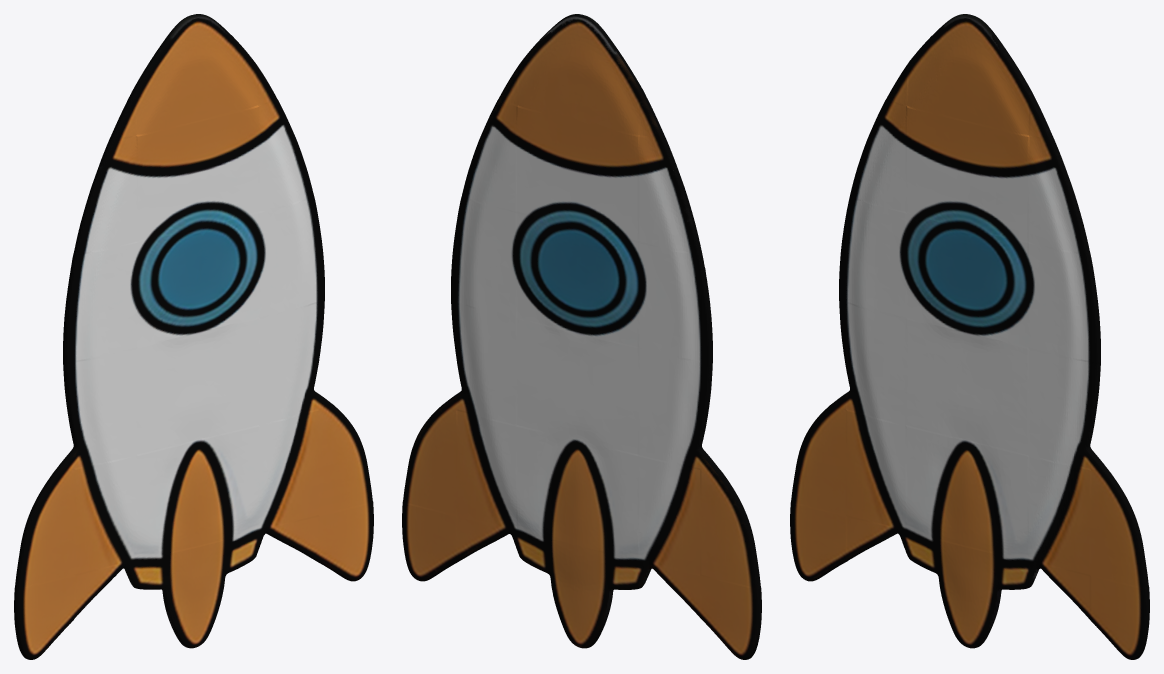
The model's file is hunyuan_rocket_textured.glb.
The picture shows the model from 3 angles, left to right: view 1: azimuth 30°, elevation 25°; view 2: azimuth 150°, elevation 25°; view 3: azimuth 330°, elevation 25°; orthographic projection.
Parts seen in each view (by area): view 1: tmpu4y0e18i.ply; view 2: tmpu4y0e18i.ply; view 3: tmpu4y0e18i.ply.
Part boxes in pixels (x1,y1,x2,y2): tmpu4y0e18i.ply: (14, 14, 373, 659); tmpu4y0e18i.ply: (402, 14, 761, 659); tmpu4y0e18i.ply: (790, 14, 1149, 659).
Bounding box in the file's own units: 1.18 × 2 × 0.0515.
1 material, 1 textured.
